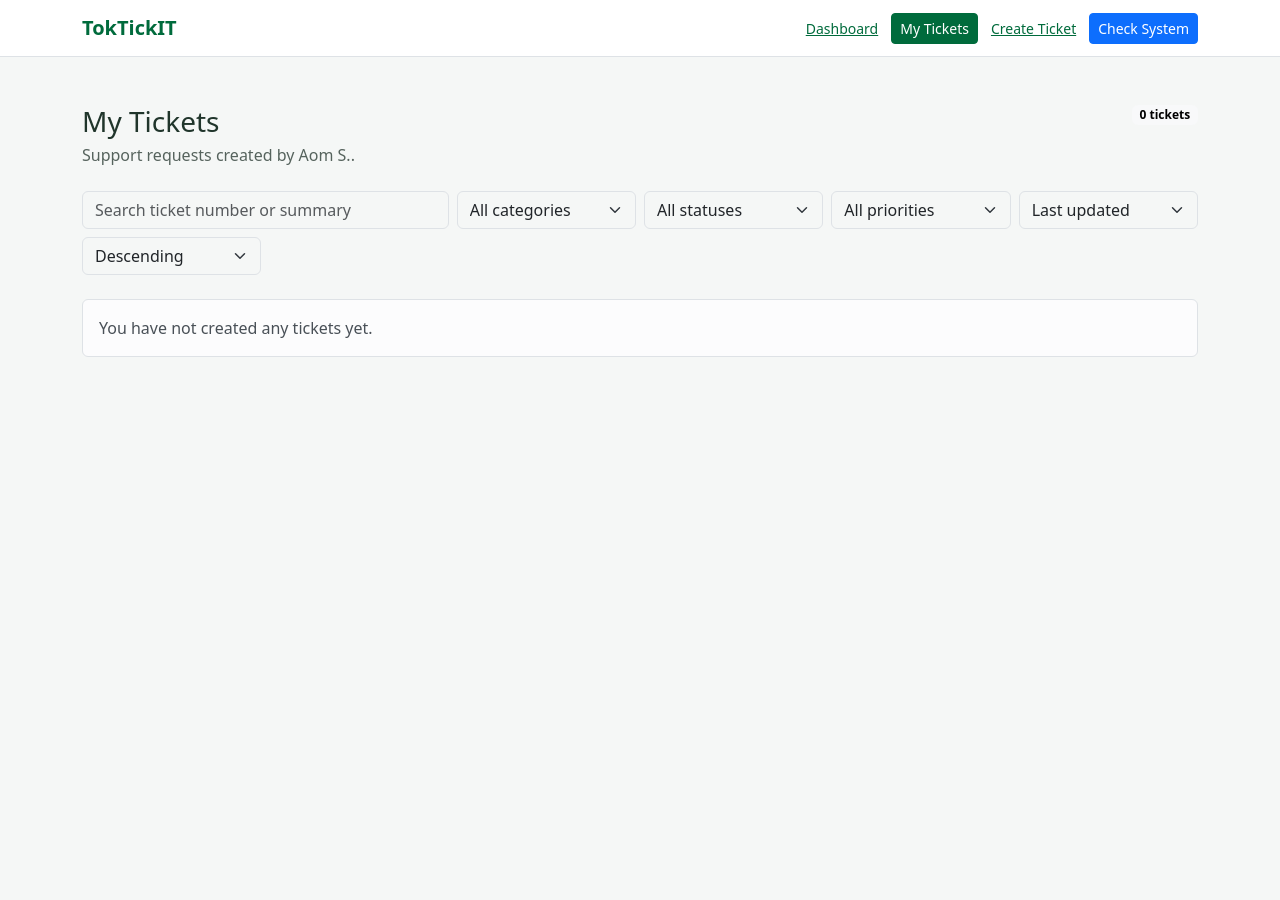
Test: Create Ticket › shows adjacent validation feedback before submitting an incomplete form
Click the button with aria-label "open create ticket" at x=1034, y=28, box [982,12,1085,44]
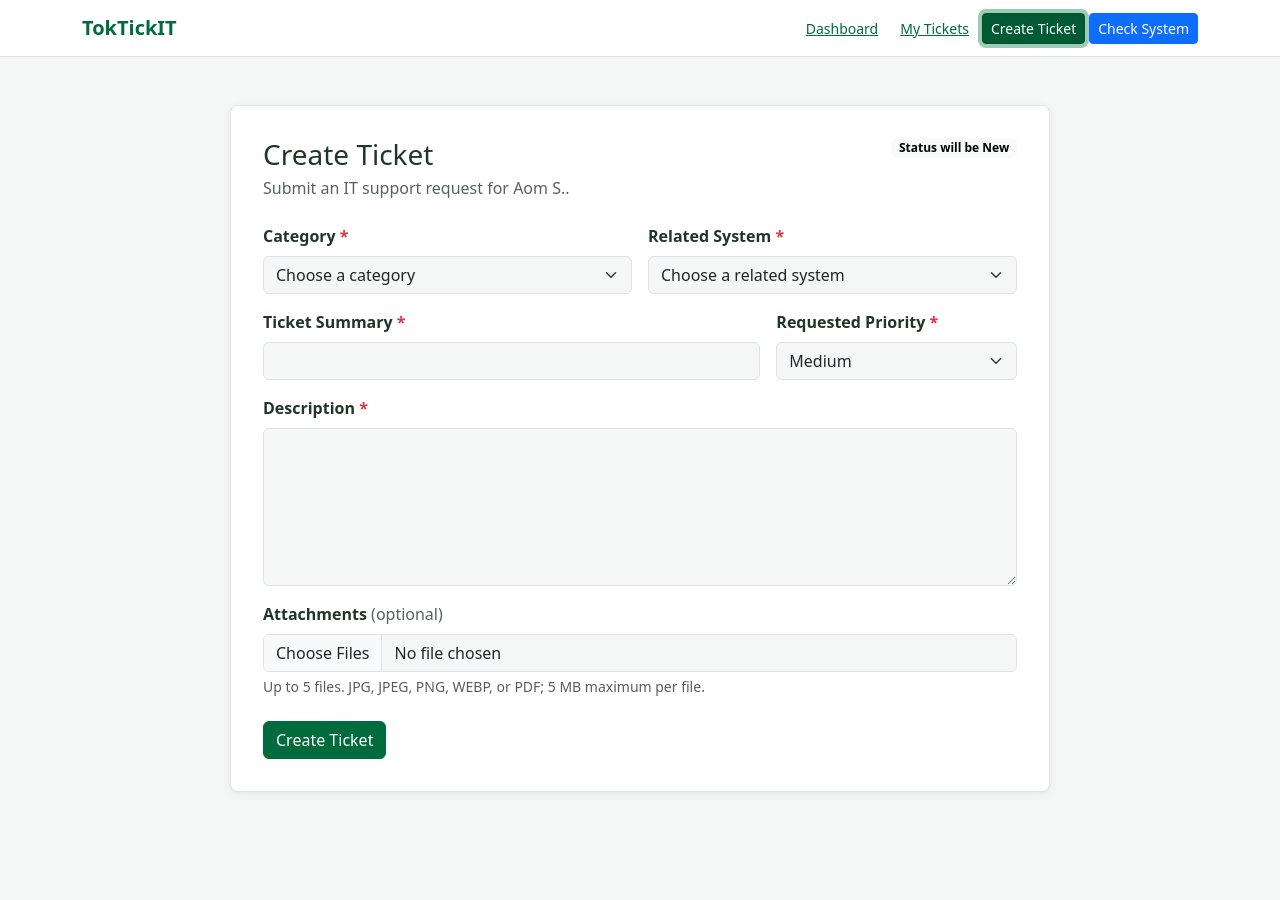
Now the dropdown labelled "Category *" is shown, box [263,256,632,294]
Click the button "Create Ticket" below "Attachments" at x=325, y=740, box [263,721,386,759]
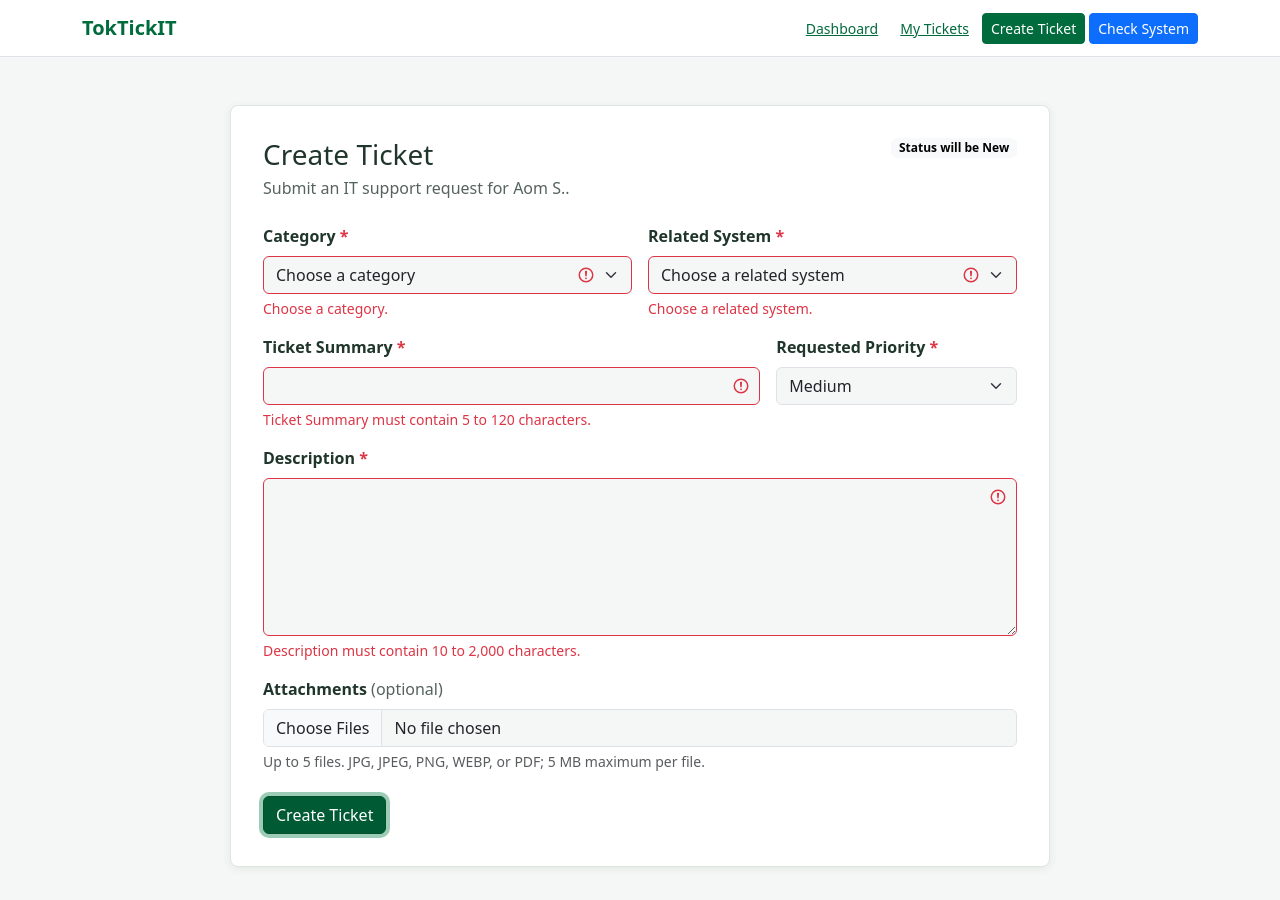
Now the text "Choose a category." is shown, box [263,299,388,318]
Now the text "Choose a related system." is shown, box [648,299,813,318]
Now the text "Ticket Summary must contain 5 to 120 characters." is shown, box [263,410,591,429]
